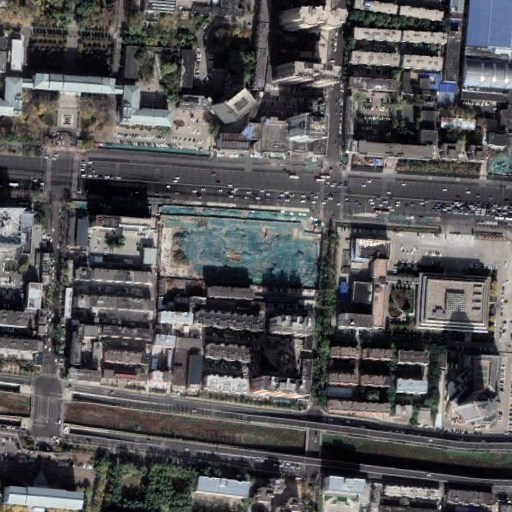cw: (161, 204, 320, 291)
